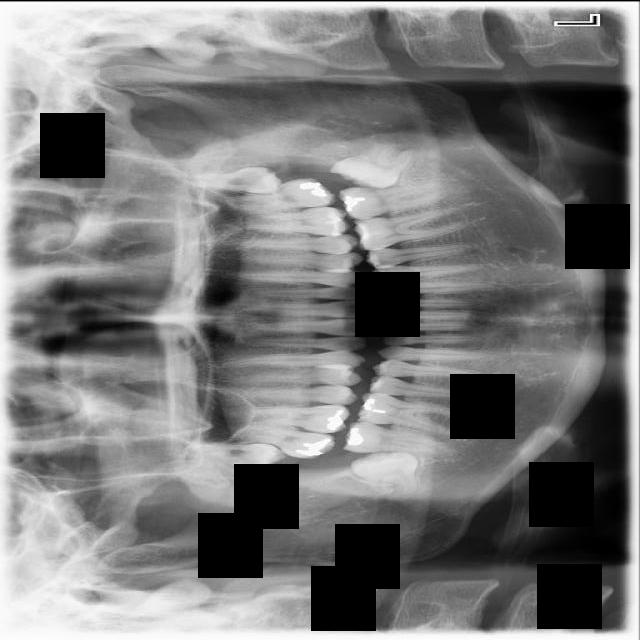3M ESPE Implant: (190, 441, 287, 471)
52: (336, 178, 385, 225), (342, 417, 388, 458), (352, 213, 398, 253), (280, 176, 337, 208), (300, 203, 352, 237), (355, 389, 399, 427), (279, 430, 335, 459), (301, 403, 351, 434), (365, 245, 404, 268)
73: (556, 26, 566, 32)
BioHorizons Implant: (221, 174, 339, 214)
BioLife Implant: (182, 163, 286, 194)
Biomet 3i Implant: (327, 132, 424, 205)
Blue Sky Bio Implant: (337, 179, 453, 221)
Caries: (230, 421, 336, 461)
Implant: (342, 418, 452, 462)
Keystone Dental Implant: (350, 450, 421, 496)
